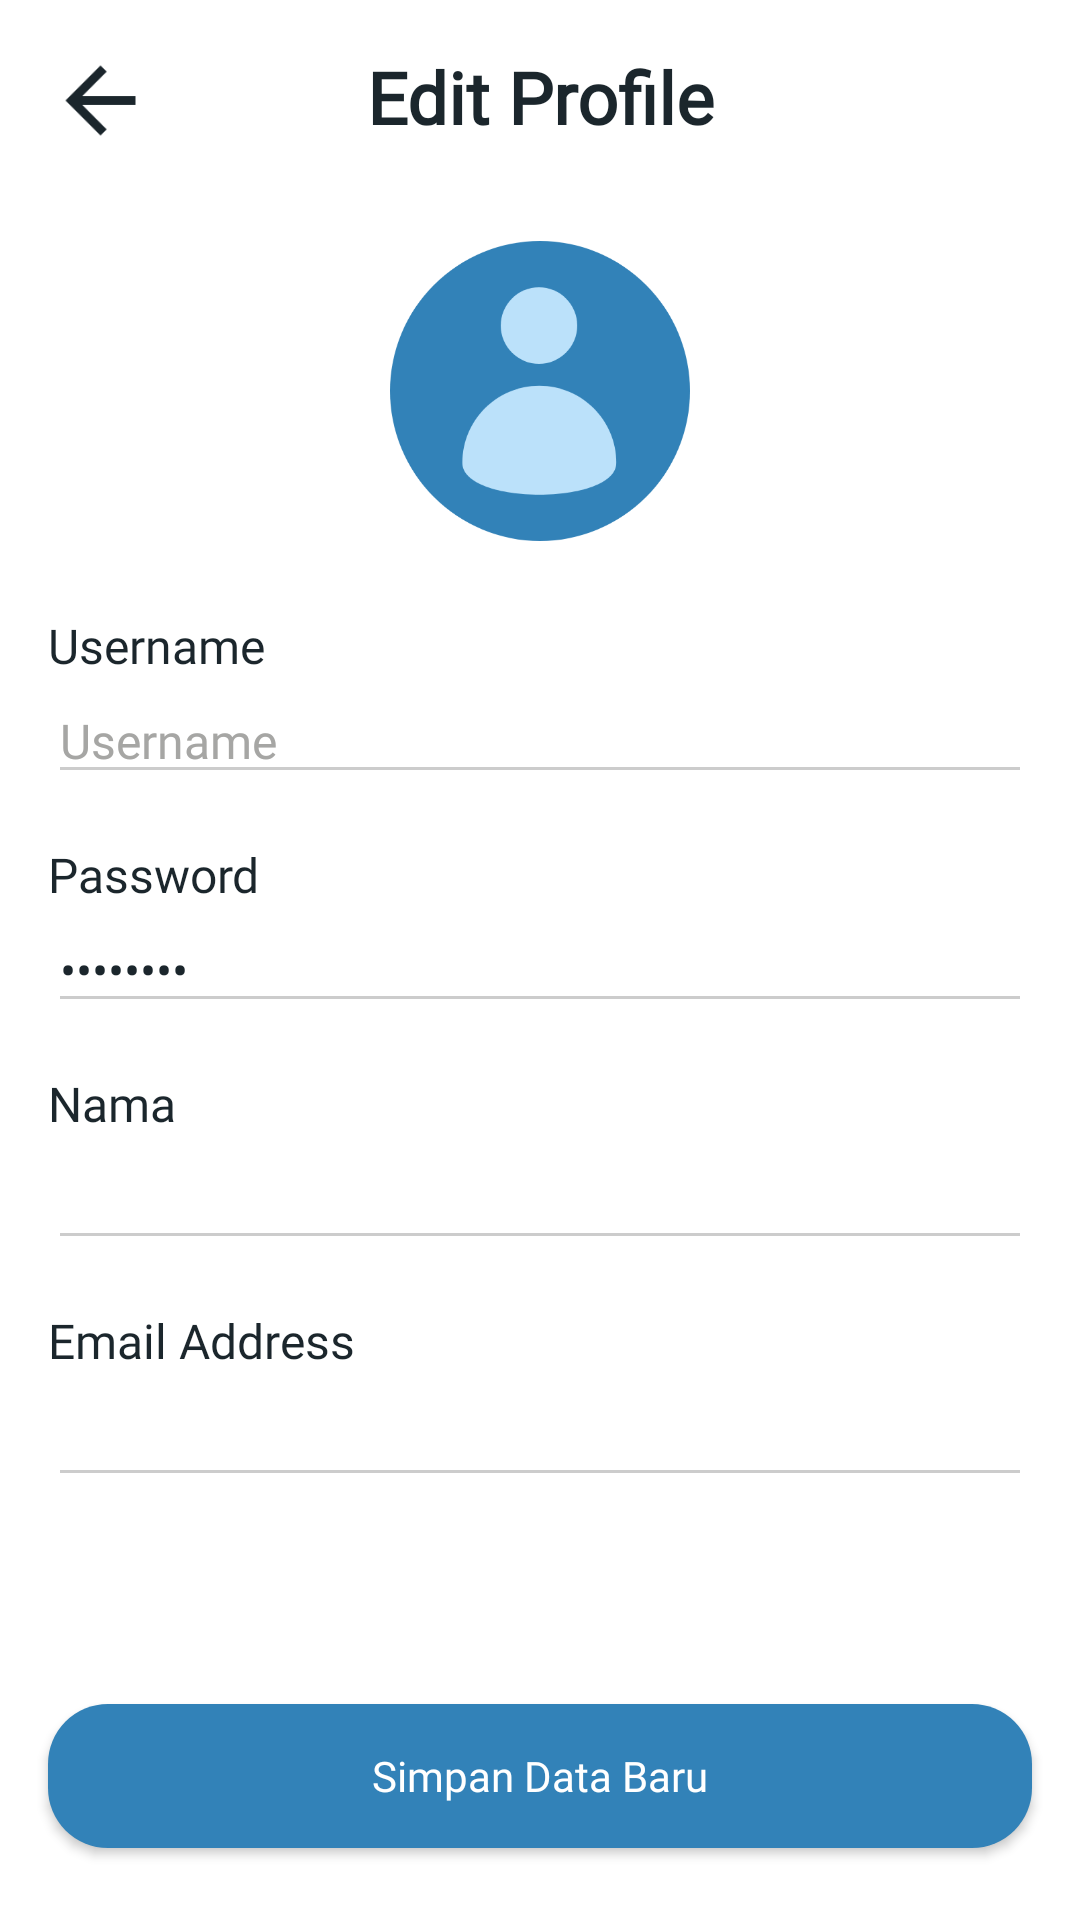

Where to tap for icons on this 1080px×1920px app screen, as point (x, y):
arrow back: point (100, 100)
user pic: point (540, 391)
